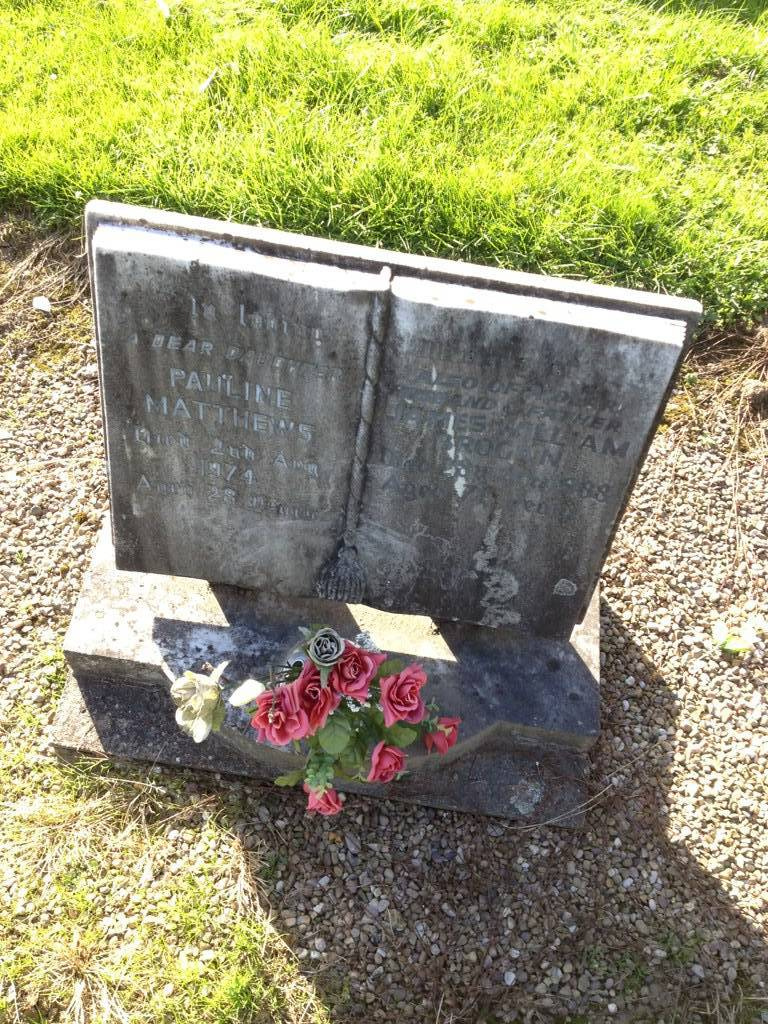upright: (29, 139, 717, 852)
